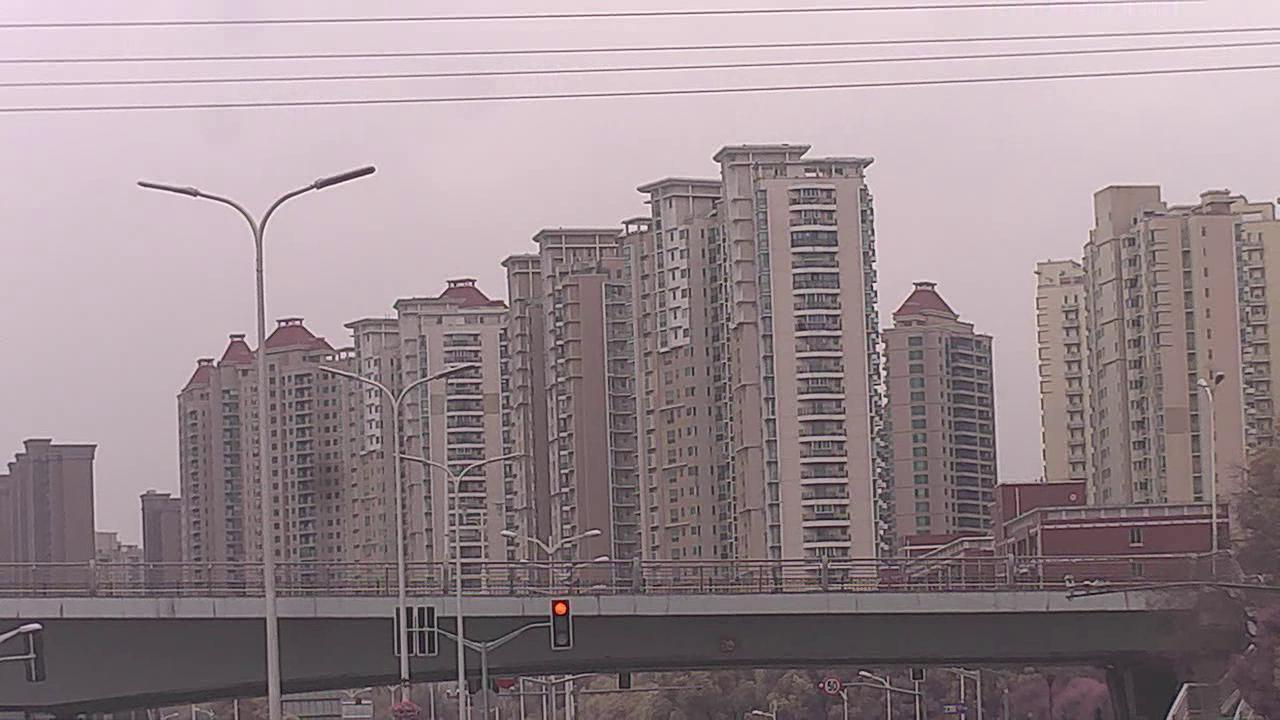traffic_light: (551, 599, 571, 650)
